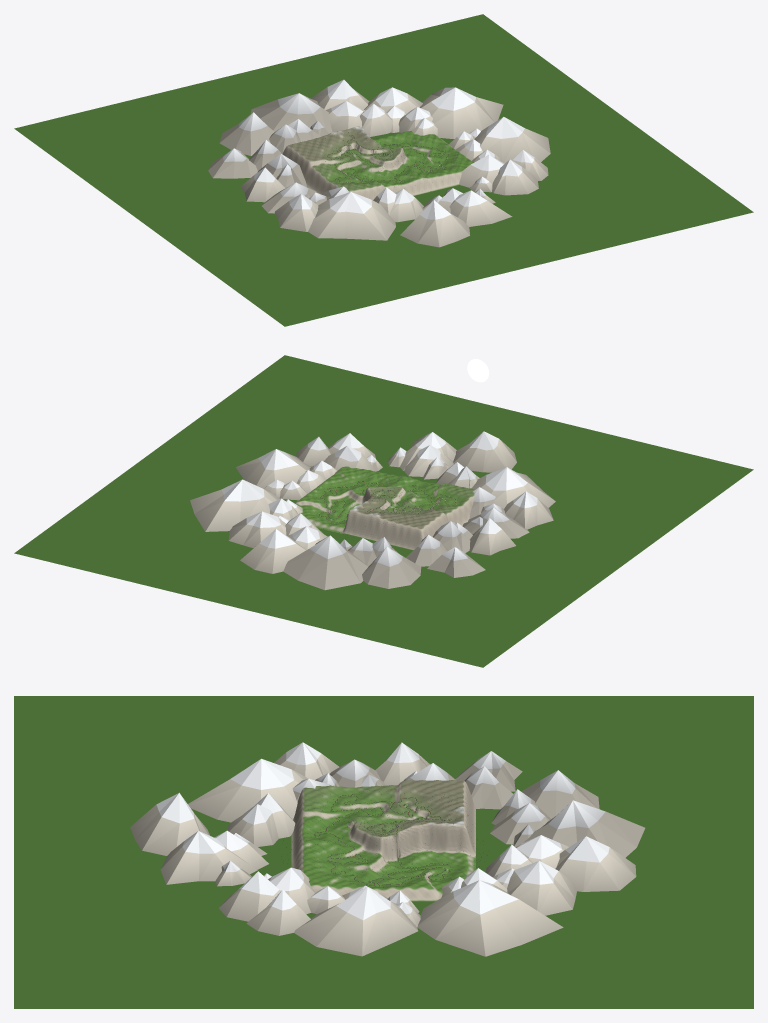
Rendered from dolomites.glb.
The picture shows the model from 3 angles, top to bottom: view 1: azimuth 30°, elevation 25°; view 2: azimuth 150°, elevation 25°; view 3: azimuth 270°, elevation 25°; orthographic projection. The views are drawn at different scales.
Parts seen in each view (by area): view 1: Sea, Solid_074, Solid_131, Solid_012, Solid_049, Solid_097, Solid_008, Solid_042, Solid_121, Solid_034, Solid_099, Solid_096 (+7 smaller); view 2: Sea, Solid_131, Solid_012, Solid_074, Solid_008, Solid_097, Solid_121, Solid_049, Solid_036, Solid_099, Land_032, Land_030 (+7 smaller); view 3: Sea, Solid_012, Solid_131, Solid_074, Solid_008, Solid_042, Solid_049, Solid_034, Solid_094, Solid_036, Solid_052, Solid_121 (+24 smaller).
Part boxes in pixels (x1,y1,x2,y2): Sea: (14,14,753,326); Solid_074: (400,181,512,247); Solid_131: (219,93,352,143); Solid_012: (376,87,455,144); Solid_049: (443,150,548,195); Solid_097: (278,180,350,238); Solid_008: (309,79,386,146); Solid_042: (447,117,550,163); Solid_121: (208,140,330,186); Solid_034: (432,87,503,149); Solid_099: (240,167,337,212); Solid_096: (343,182,386,240); Sea: (14,355,753,667); Solid_131: (283,511,410,590); Solid_012: (190,479,320,544); Solid_074: (403,431,516,486); Solid_008: (240,513,340,573); Solid_097: (455,467,555,525); Solid_121: (418,511,490,577); Solid_049: (307,433,395,482); Solid_036: (236,449,327,493); Solid_099: (447,504,529,555); Land_032: (343,506,389,542); Land_030: (404,509,447,550); Sea: (14,696,753,1008); Solid_012: (437,861,575,956); Solid_131: (447,770,645,857); Solid_074: (130,792,316,884); Solid_008: (449,826,636,891); Solid_042: (279,884,378,956); Solid_049: (217,867,335,935); Solid_034: (393,880,485,956); Solid_094: (188,779,334,822); Solid_036: (362,884,418,956); Solid_052: (166,848,330,885); Solid_121: (405,751,522,798).
Size of the model in its own units: 18000 by 3558 by 18000.
